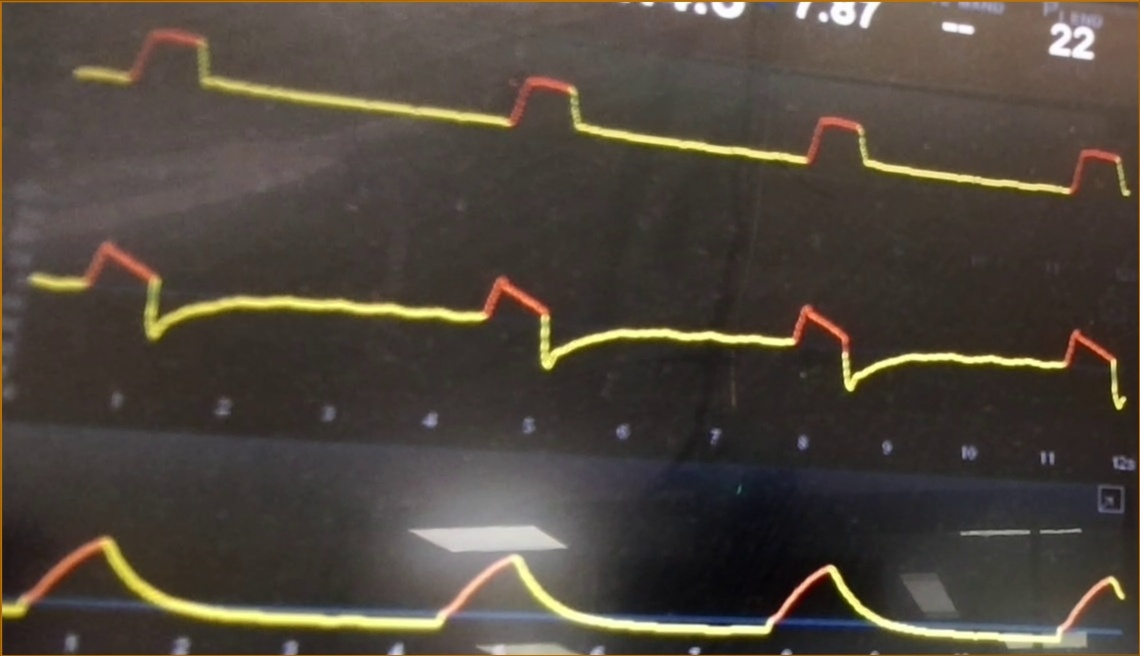Normal Flow: (28, 237, 1128, 406)
Normal Volume: (3, 512, 1126, 642)
